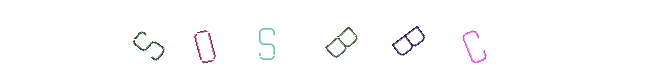B: (273, 0, 353, 80), (285, 0, 365, 80)
C: (425, 0, 505, 80)
O: (224, 0, 304, 80)
S: (164, 0, 244, 80), (248, 0, 328, 80)
